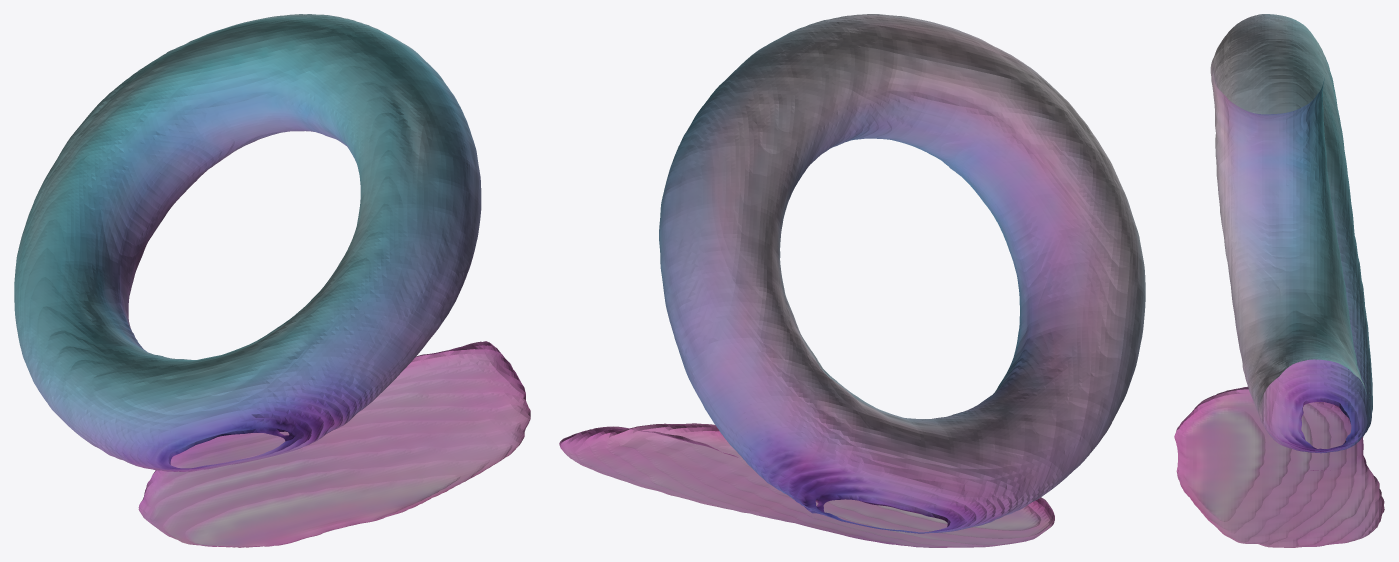
3 views of the same model, side by side, from view 1: azimuth 30°, elevation 25°; view 2: azimuth 150°, elevation 25°; view 3: azimuth 270°, elevation 25° (orthographic). The views are drawn at different scales.
Visible parts, largest first — view 1: geometry_0; view 2: geometry_0; view 3: geometry_0.
Part boxes in pixels (<box>): geometry_0: <box>14,14,530,547</box>; geometry_0: <box>559,14,1145,547</box>; geometry_0: <box>1174,14,1384,547</box>.
Bounding box in the file's own units: 1.6 × 1.43 × 0.6568.
